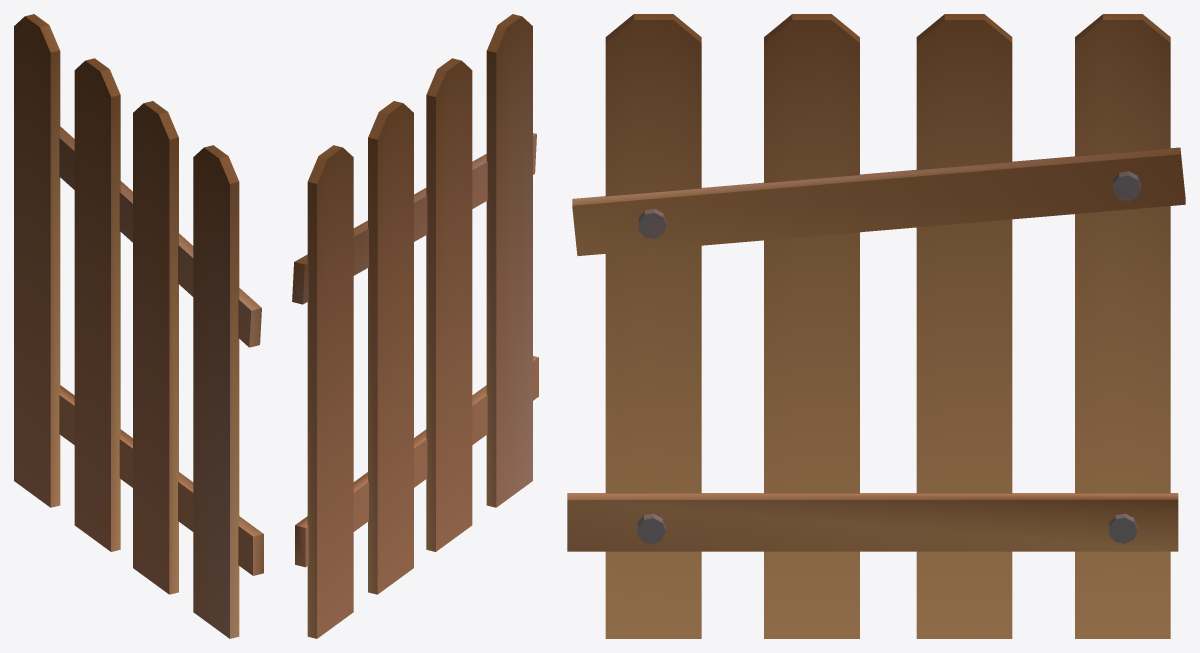
Rendered from plotek2.fbx.
3 renders of one model, left to right at view 1: azimuth 30°, elevation 25°; view 2: azimuth 150°, elevation 25°; view 3: azimuth 270°, elevation 25°, orthographic. The views are drawn at different scales.
Parts seen in each view (by area): view 1: Cube.002; view 2: Cube.002; view 3: Cube.002.
Part boxes in pixels (box(x1,y1,x2,y2)): Cube.002: box(14, 14, 263, 638); Cube.002: box(292, 14, 538, 638); Cube.002: box(567, 14, 1185, 638).
Size of the model in its own units: 25.39 by 425 by 385.
